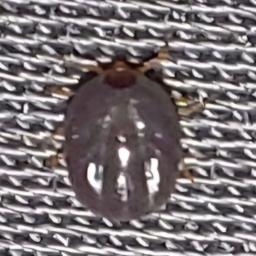Rhipicephalus sanguineus: (47, 54, 204, 221)
